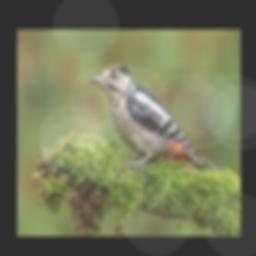Woodpecker: (89, 63, 219, 171)
